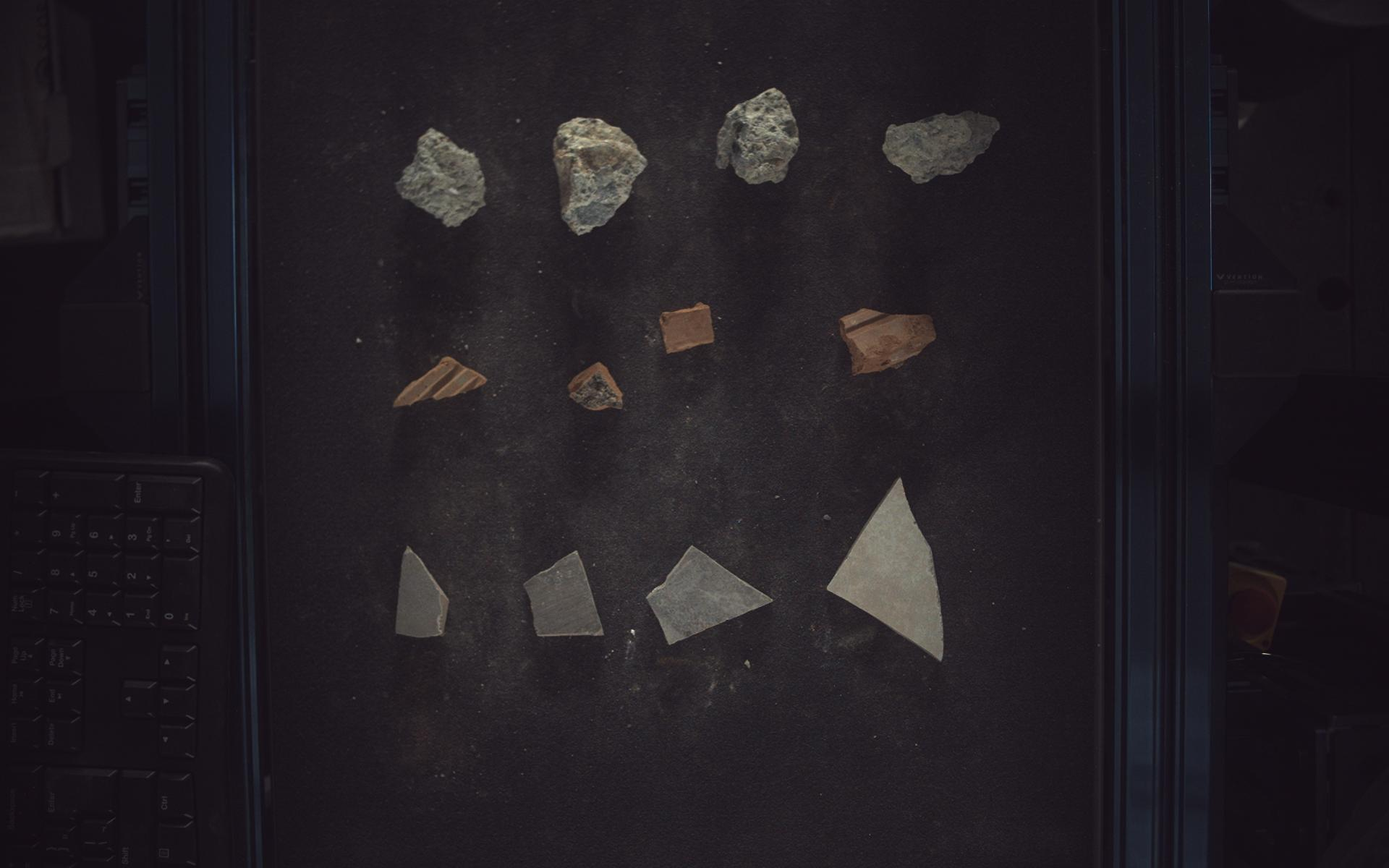brick: (841, 307, 938, 375), (393, 357, 486, 407), (660, 302, 715, 354), (569, 362, 624, 411)
concrete: (553, 116, 647, 234), (396, 127, 485, 226), (884, 110, 1002, 182), (717, 87, 801, 184)
tile: (828, 479, 946, 661), (647, 546, 773, 645), (524, 552, 604, 637), (396, 548, 449, 639)
